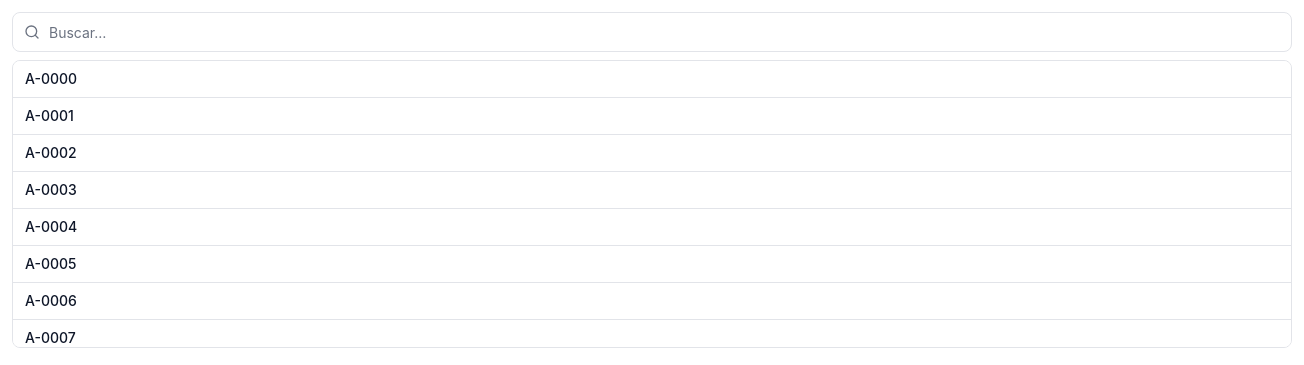
Combobox (BranchSelector core) › filtra por substring case-insensitive en branch_id
This screenshot has width=1304, height=365.
Type "a-0050" into the field named "Buscar sucursal" at {"x": 652, "y": 32}, box 12,12 -> 1292,52
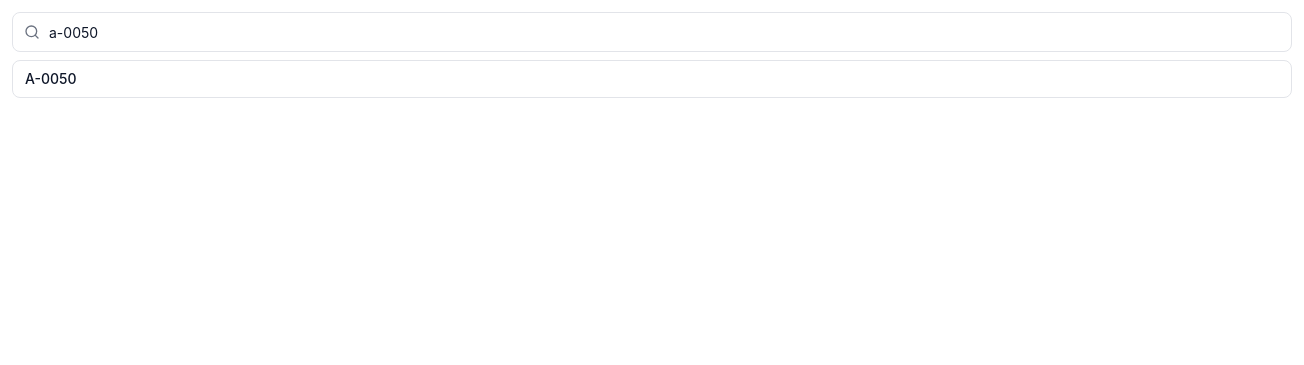
Expected: the text "A-0050" is shown, 25,69 -> 76,89
Expected: the button "A-0001" is gone
